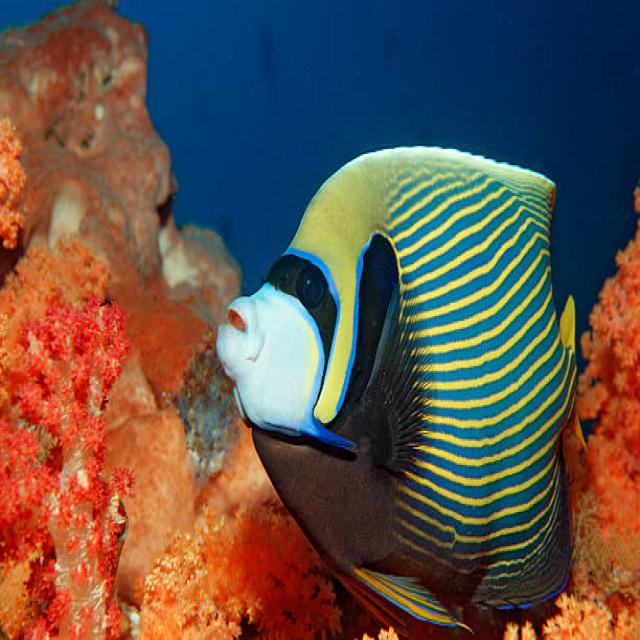AngelFish: (218, 144, 580, 619)
